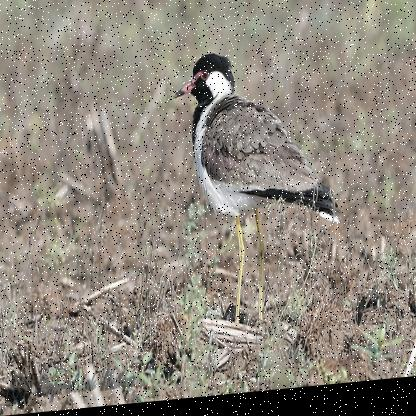Burung: (172, 47, 340, 334)
